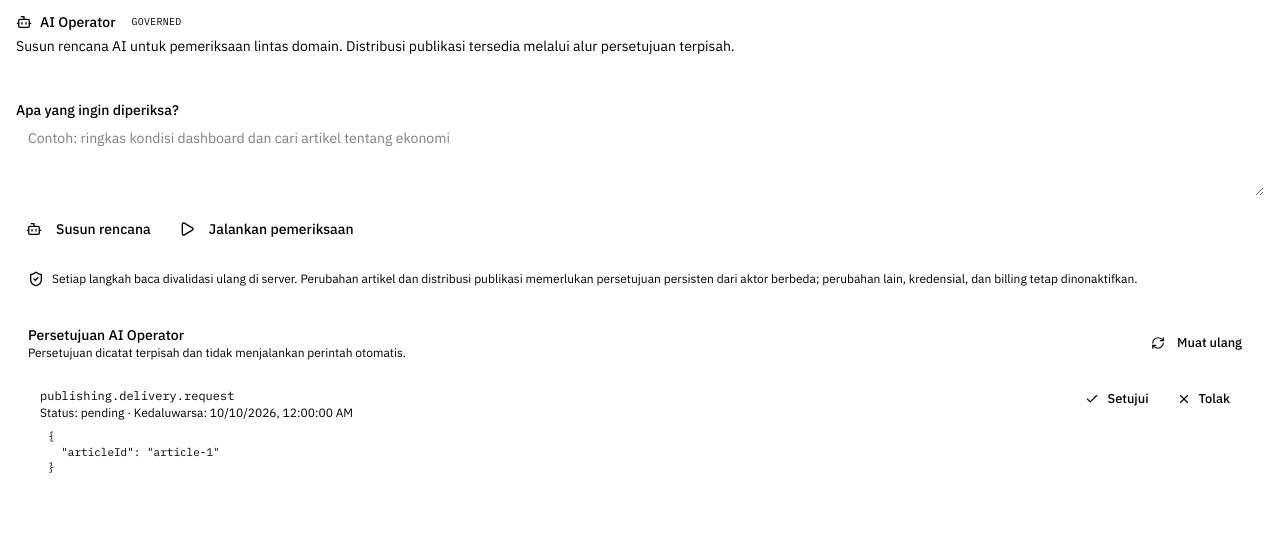
Test: AiOperatorConsole › shows review controls only when the server grants review permission and refreshes after a decision
Check: the text "Status: pending · Kedaluwarsa: 10/10/2026, 12:00:00 AM" is shown, box [40, 405, 353, 421]
Click the button "Setujui" at (1117,399), box [1076, 385, 1159, 413]
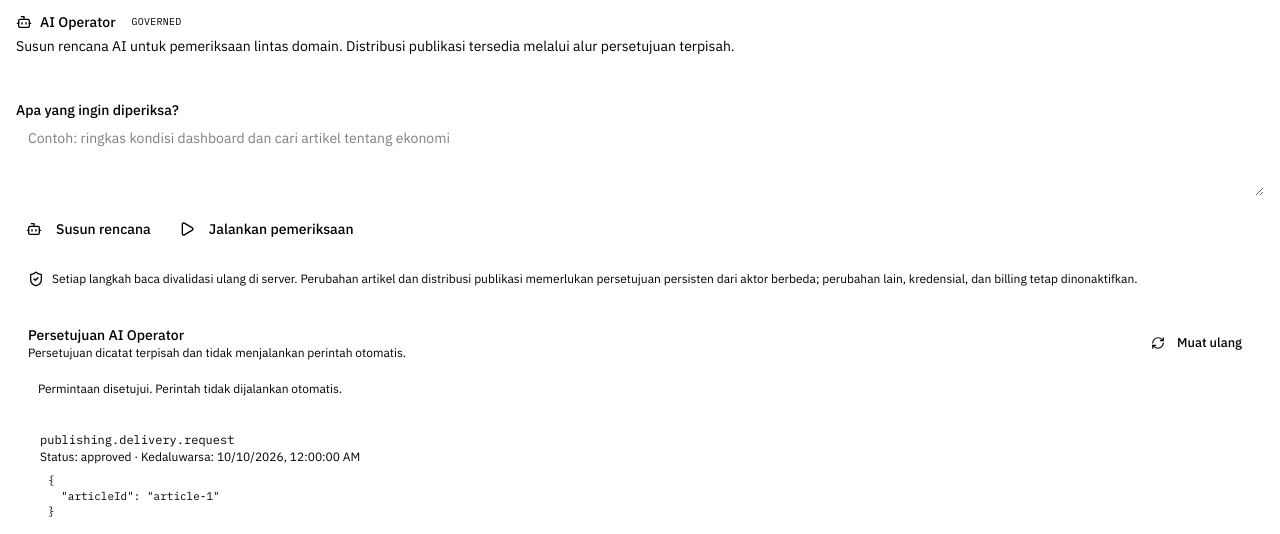
Check: the text "Permintaan disetujui. Perintah tidak dijalankan otomatis." is shown, box [38, 381, 342, 396]
Check: the text "Status: approved · Kedaluwarsa: 10/10/2026, 12:00:00 AM" is shown, box [40, 449, 360, 465]
